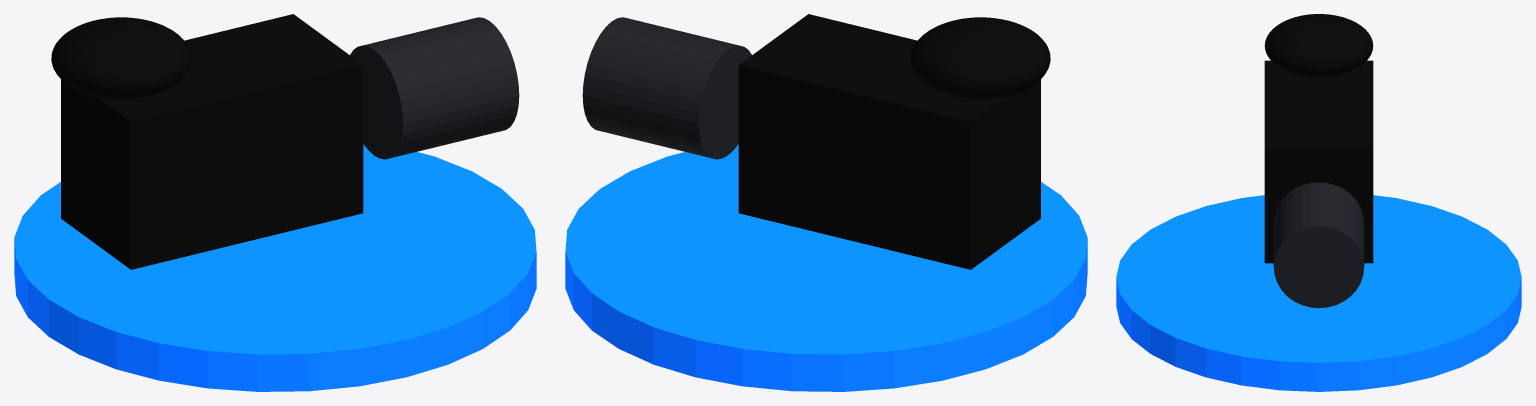
Rendered from news_video_camera.dae.
The picture shows the model from 3 angles, left to right: view 1: azimuth 30°, elevation 25°; view 2: azimuth 150°, elevation 25°; view 3: azimuth 270°, elevation 25°; orthographic projection. The views are drawn at different scales.
Visible parts, largest first — view 1: 09_03_Popular_News_Video_Camera_ROOT_base, 09_03_Popular_News_Video_Camera_part_01, 09_03_Popular_News_Video_Camera_part_02, 09_03_Popular_News_Video_Camera_part_03; view 2: 09_03_Popular_News_Video_Camera_ROOT_base, 09_03_Popular_News_Video_Camera_part_01, 09_03_Popular_News_Video_Camera_part_02, 09_03_Popular_News_Video_Camera_part_03; view 3: 09_03_Popular_News_Video_Camera_ROOT_base, 09_03_Popular_News_Video_Camera_part_01, 09_03_Popular_News_Video_Camera_part_02, 09_03_Popular_News_Video_Camera_part_03.
Boxes of the visible parts, x1,y1,x2,y2 form: 09_03_Popular_News_Video_Camera_ROOT_base: (14,144,536,391); 09_03_Popular_News_Video_Camera_part_01: (61,14,363,269); 09_03_Popular_News_Video_Camera_part_02: (350,17,519,159); 09_03_Popular_News_Video_Camera_part_03: (51,17,191,99); 09_03_Popular_News_Video_Camera_ROOT_base: (565,144,1087,391); 09_03_Popular_News_Video_Camera_part_01: (738,14,1040,269); 09_03_Popular_News_Video_Camera_part_02: (582,17,751,159); 09_03_Popular_News_Video_Camera_part_03: (910,17,1050,99); 09_03_Popular_News_Video_Camera_ROOT_base: (1116,195,1521,391); 09_03_Popular_News_Video_Camera_part_01: (1264,60,1373,263); 09_03_Popular_News_Video_Camera_part_02: (1273,182,1364,308); 09_03_Popular_News_Video_Camera_part_03: (1264,14,1373,77).
Bounding box in the file's own units: 0.76 × 0.4637 × 0.76.
